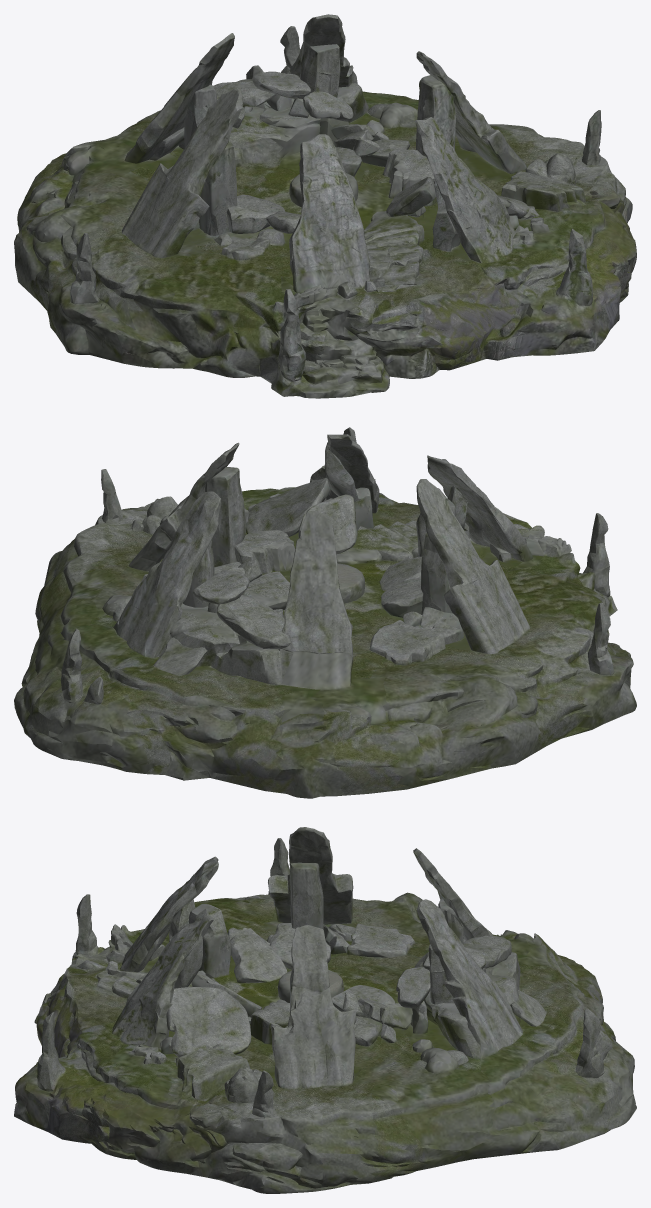
File: seeingstone.glb
3 views of the same model, one above another, from view 1: azimuth 30°, elevation 25°; view 2: azimuth 150°, elevation 25°; view 3: azimuth 270°, elevation 25° (orthographic). The views are drawn at different scales.
Visible parts, largest first — view 1: seeingstone-centred; view 2: seeingstone-centred; view 3: seeingstone-centred.
Boxes of the visible parts, box(x1,y1,x2,y2) form: seeingstone-centred: box(14, 14, 636, 398); seeingstone-centred: box(14, 427, 636, 798); seeingstone-centred: box(14, 827, 636, 1193).
Size of the model in its own units: 34 by 11.53 by 33.64.
1 material, 1 textured.
